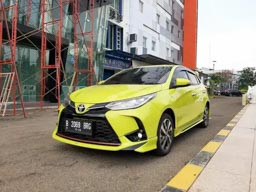plat: (64, 120, 93, 130)
